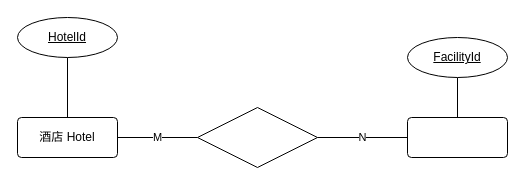
Some shapes in this 525 by 185 pixel diagram are drawn without their labels. The shapes that lost their labels are listed below. From the top down, each one's centre as x and y in pixels, then its label:
the point at 257,137: 拥有
the point at 457,137: 设施设备 FacilityInfo
